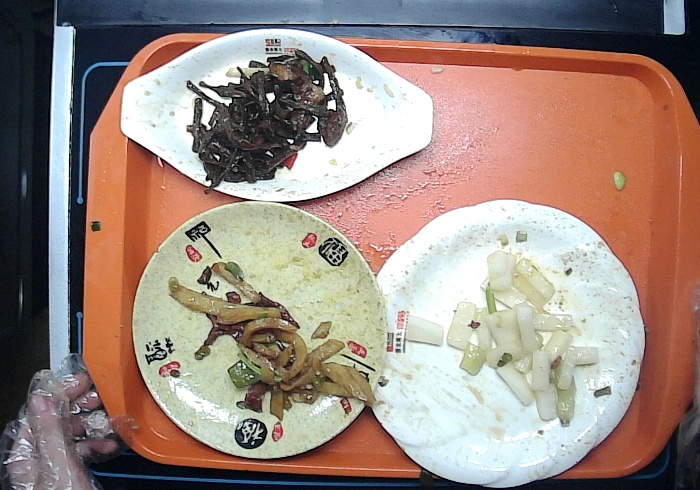NLDX-Bai_Zhe_Yuan_Pan: (377, 198, 647, 490)
NLDX-Fu_Zi_Yuan_Pan: (131, 203, 387, 462)
NLDX-Yu_Pan: (119, 28, 435, 201)
